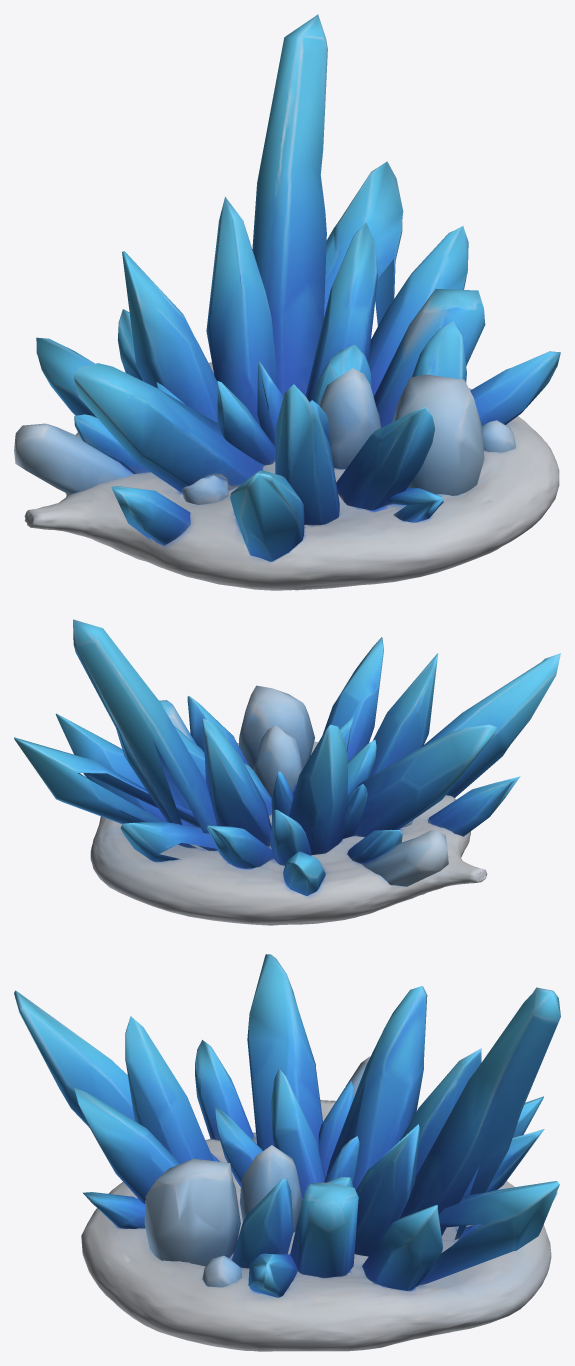
The model's file is Tripo_IceBurst_v3_raw.fbx.
3 views of the same model, one above another, from view 1: azimuth 30°, elevation 25°; view 2: azimuth 150°, elevation 25°; view 3: azimuth 270°, elevation 25° (orthographic). The views are drawn at different scales.
Parts seen in each view (by area): view 1: tripo_node_b6671d6c; view 2: tripo_node_b6671d6c; view 3: tripo_node_b6671d6c.
Part boxes in pixels (x1,y1,x2,y2): tripo_node_b6671d6c: (14,14,560,590); tripo_node_b6671d6c: (14,619,560,925); tripo_node_b6671d6c: (14,954,560,1351).
Size of the model in its own units: 0.998 by 0.7637 by 0.998.
1 material, 1 textured.
